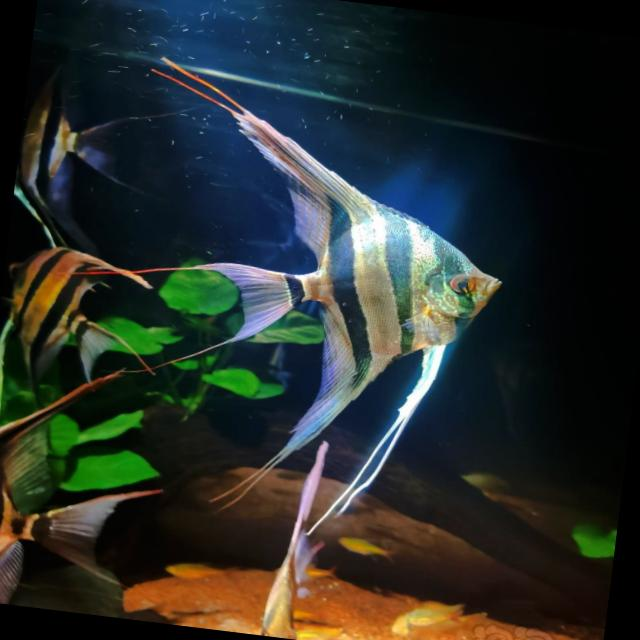AngelFish: (139, 76, 532, 555), (0, 347, 174, 620), (0, 227, 174, 386), (11, 68, 168, 228)
